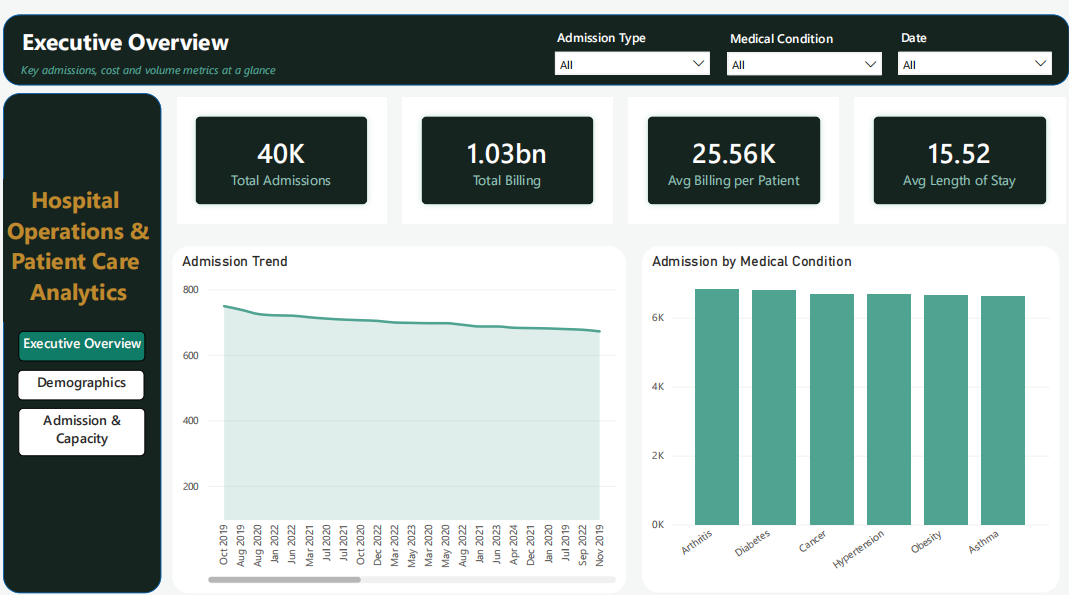

What the dashboard file says about the page in this screenshot:
{"tool":"powerbi","page":{"name":"Executive","canvas":[1280,720],"ordinal":0},"visuals":[{"type":"shape","box":[7.7,18.7,1260.2,84.7],"z":0},{"type":"textbox","box":[25.3,71.5,579.5,31.9],"z":1000},{"type":"cardVisual","fields":{"Data":["Measures (2).Total Admissions"]},"box":[207.8,112.2,258.4,158.4],"z":2000},{"type":"lineChart","title":"Admission Trend","fields":{"Category":["Date.MonthYear"],"Y":["Measures (2).Total Admissions"]},"box":[207.8,292.5,536.6,410.2],"z":3000},{"type":"clusteredColumnChart","title":"Admission by Medical Condition","fields":{"Category":["Patients.Medical Condition"],"Y":["Measures (2).Total Admissions"]},"box":[763.2,292.5,492.6,409.1],"z":4000},{"type":"shape","box":[8,112,187,591],"z":5000},{"type":"cardVisual","fields":{"Data":["Measures (2).Avg Length of Stay"]},"box":[1009.5,112.2,258.4,158.4],"z":6000},{"type":"cardVisual","fields":{"Data":["Measures (2).Avg Billing per Patient"]},"box":[742.3,112.2,258.4,158.4],"z":7000},{"type":"cardVisual","fields":{"Data":["Measures (2).Total Billing"]},"box":[475.1,112.2,258.4,158.4],"z":8000},{"type":"textbox","box":[26.4,27.5,567.4,51.7],"z":9000},{"type":"slicer","fields":{"Values":["Patients.Admission Type"]},"box":[649.9,30.8,203.4,62.7],"z":10000},{"type":"slicer","fields":{"Values":["Patients.Medical Condition"]},"box":[854.4,31.9,201.2,61.6],"z":11000},{"type":"slicer","fields":{"Values":["Date.Date"]},"box":[1055.7,30.8,201.2,61.6],"z":12000},{"type":"textbox","box":[8,214,179,168],"z":13000},{"type":"actionButton","title":"Executive Overview","box":[26.4,392.6,149.6,36.3],"z":14000},{"type":"actionButton","title":"Admission & Capacity","box":[26.4,483.8,149.6,57.2],"z":15000},{"type":"actionButton","title":"Demographics","box":[25.3,438.8,149.6,36.3],"z":16000}]}

Visuals, with their boxes in screenshot pixels (x1, y1, x2, y2), scaled from the page's 1280x720 canvas onto the 1069x595 screenshot:
shape: <region>6, 15, 1059, 85</region>
textbox: <region>21, 59, 505, 85</region>
cardVisual - Measures (2).Total Admissions: <region>174, 93, 389, 224</region>
"Admission Trend" lineChart: <region>174, 242, 622, 581</region>
"Admission by Medical Condition" clusteredColumnChart: <region>637, 242, 1049, 580</region>
shape: <region>7, 93, 163, 581</region>
cardVisual - Measures (2).Avg Length of Stay: <region>843, 93, 1059, 224</region>
cardVisual - Measures (2).Avg Billing per Patient: <region>620, 93, 836, 224</region>
cardVisual - Measures (2).Total Billing: <region>397, 93, 613, 224</region>
textbox: <region>22, 23, 496, 65</region>
slicer - Patients.Admission Type: <region>543, 25, 713, 77</region>
slicer - Patients.Medical Condition: <region>714, 26, 882, 77</region>
slicer - Date.Date: <region>882, 25, 1050, 76</region>
textbox: <region>7, 177, 156, 316</region>
"Executive Overview" actionButton: <region>22, 324, 147, 354</region>
"Admission & Capacity" actionButton: <region>22, 400, 147, 447</region>
"Demographics" actionButton: <region>21, 363, 146, 393</region>
